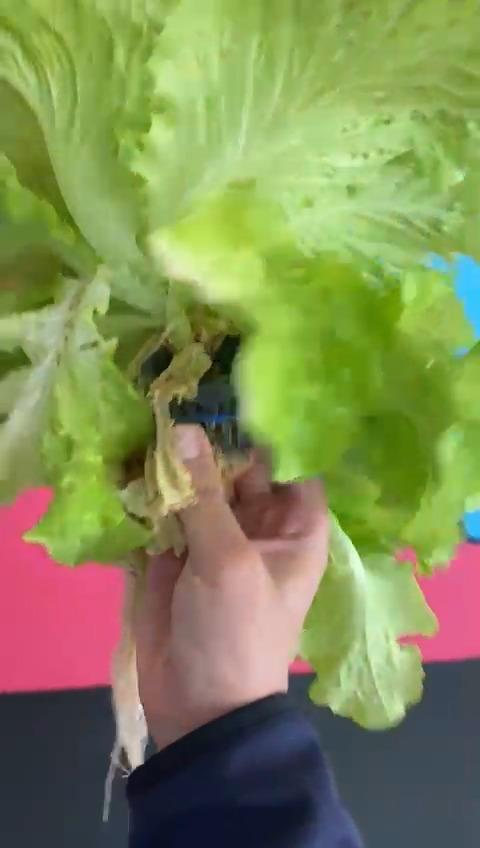Healthy Lettuce: (0, 0, 480, 772)
